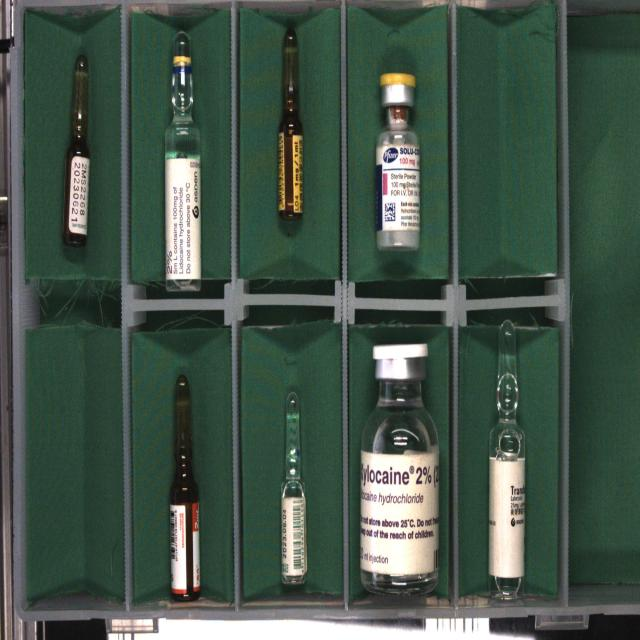Vials: (360, 343, 439, 594), (376, 73, 419, 250)
